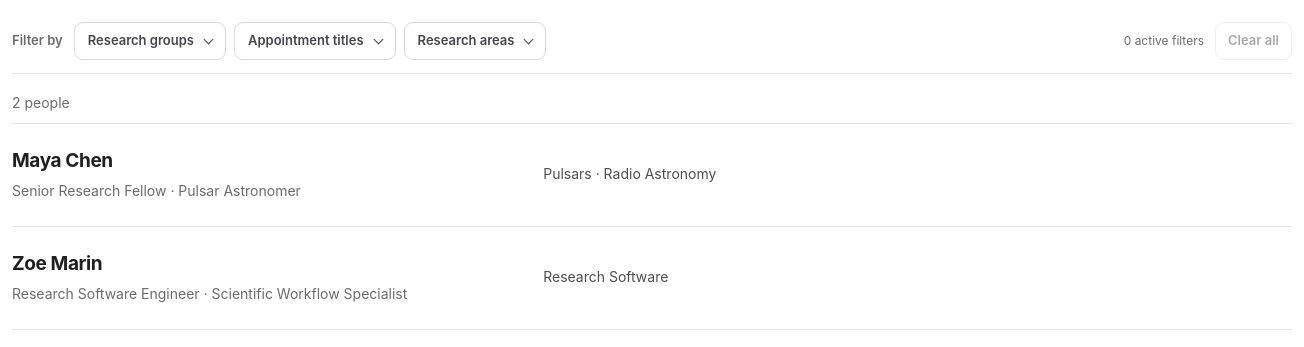
PeopleDirectory › opens one dropdown at a time and closes it with Escape
The image size is (1304, 347).
Click the button "Research groups" at [150, 41], box top-left (74, 22), bottom-right (226, 60)
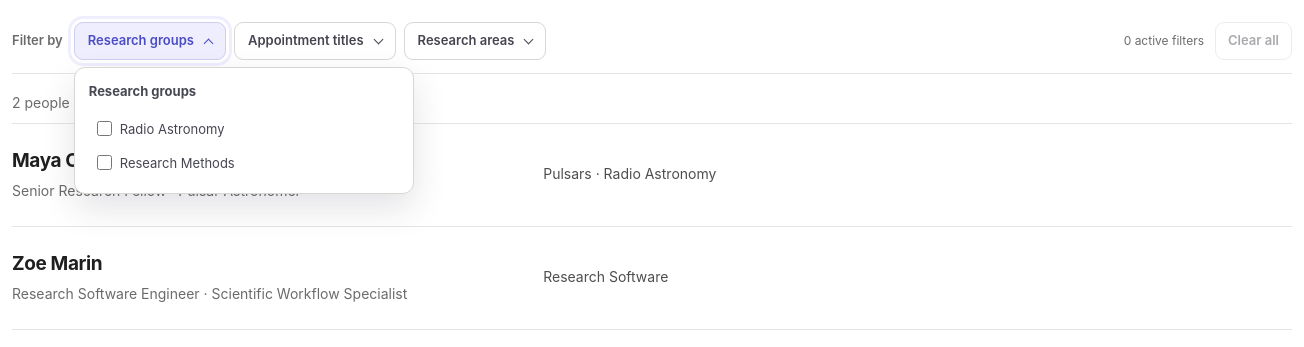
Expected: the button "Research groups" is expanded, top-left (74, 22), bottom-right (226, 60)
Expected: the element "Research groups" is shown, top-left (89, 83), bottom-right (235, 171)
Click the button "Appointment titles" at [315, 41], box top-left (234, 22), bottom-right (396, 60)
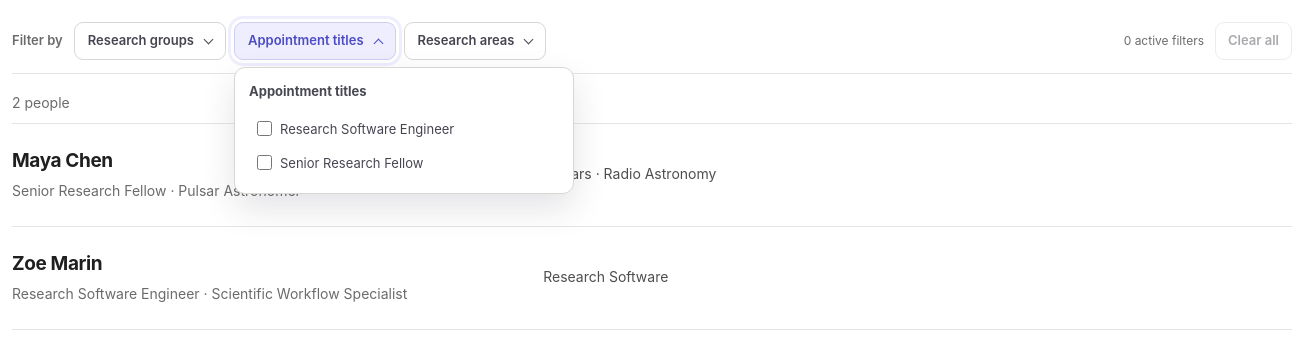
Expected: the button "Research groups" is collapsed, top-left (74, 22), bottom-right (226, 60)
Press Escape
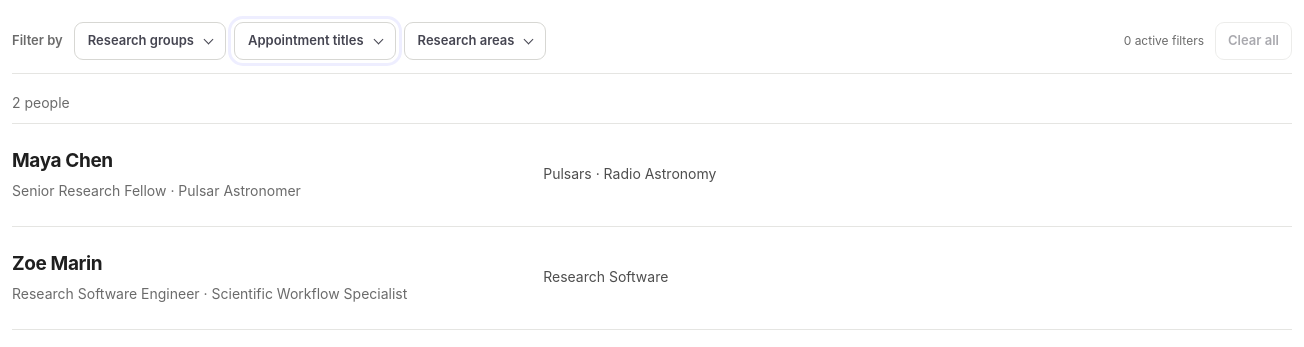
Expected: the button "Appointment titles" is collapsed, top-left (234, 22), bottom-right (396, 60)
